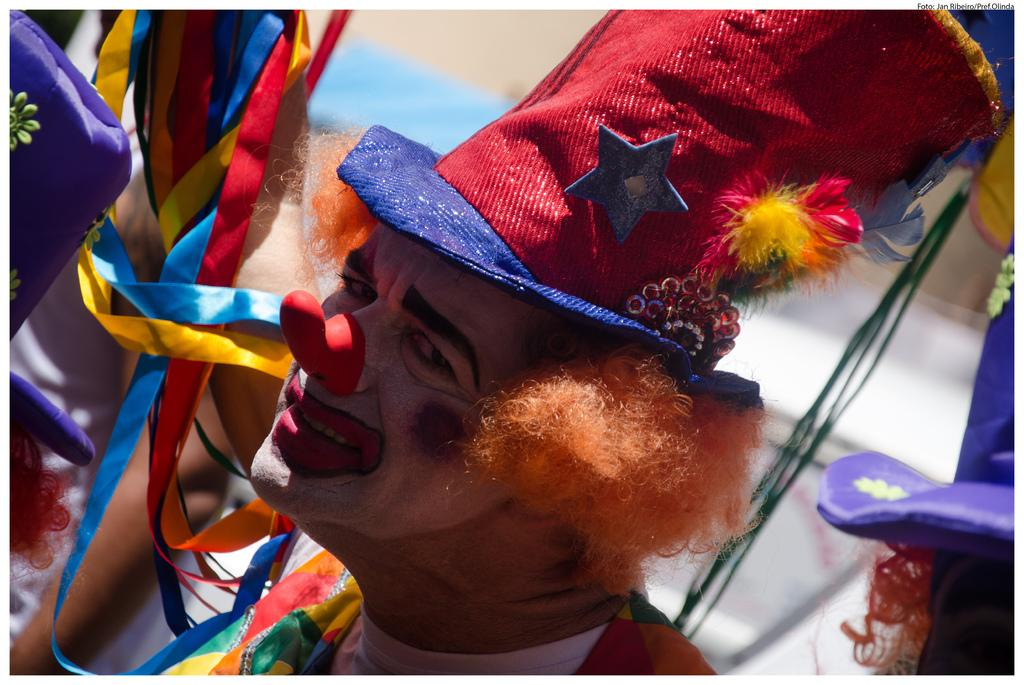Hat: (331, 8, 999, 406), (811, 240, 1023, 551)
